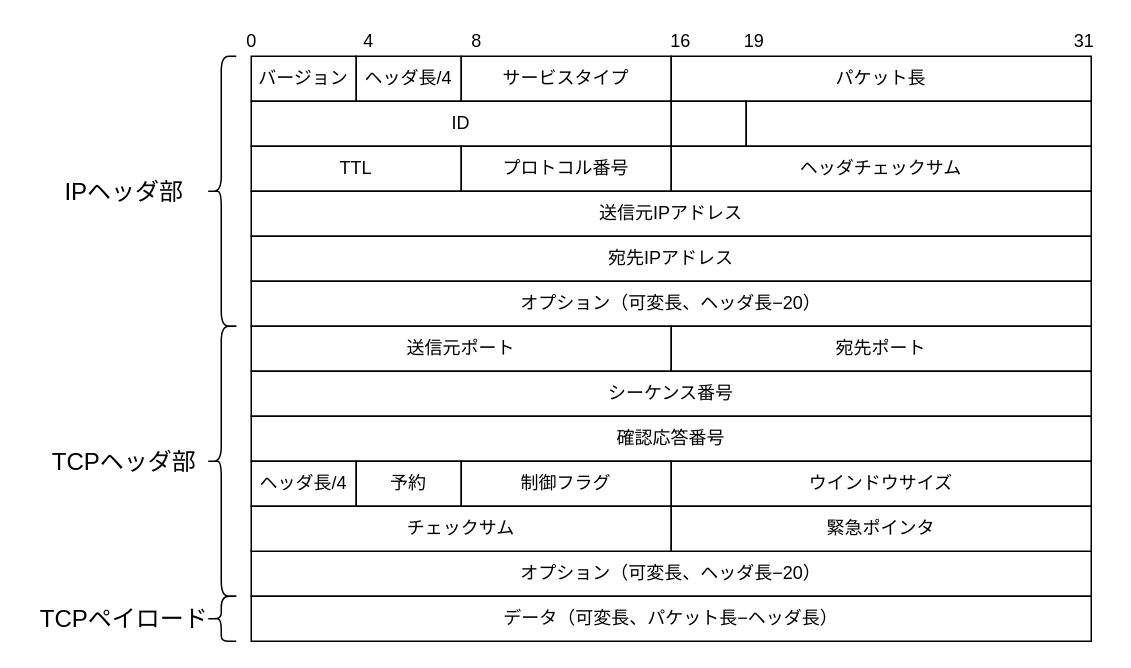
Image size: 1131x668. Some labels were removed from this diagram. Here are the shapes that lost their labels. From the top down, the centre of each, then its label:
the point at 708,123: フラグ
the point at 918,123: フラグメントオフセット
